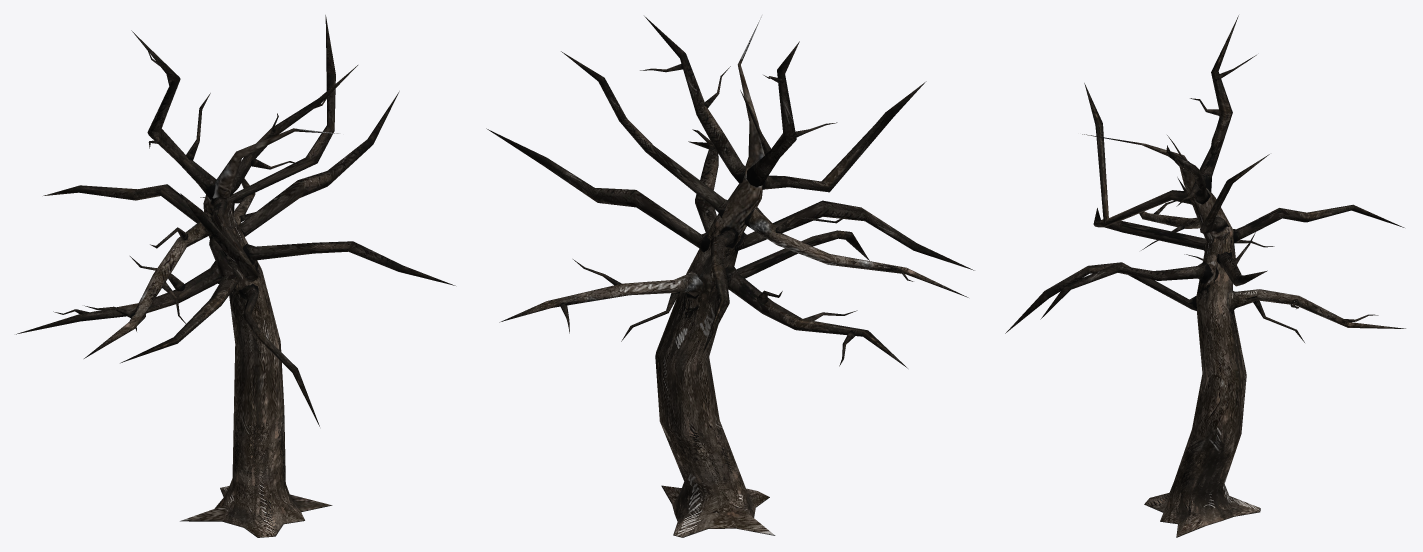
The model's file is arbre_mort2.fbx.
The picture shows the model from 3 angles, left to right: view 1: azimuth 30°, elevation 25°; view 2: azimuth 150°, elevation 25°; view 3: azimuth 270°, elevation 25°; orthographic projection. The views are drawn at different scales.
Visible parts, largest first — view 1: polySurface944; view 2: polySurface944; view 3: polySurface944.
Part boxes in pixels (x1,y1,x2,y2): polySurface944: (16, 15, 455, 537); polySurface944: (486, 16, 974, 537); polySurface944: (1005, 15, 1405, 537).
Size of the model in its own units: 827 by 981 by 801.
